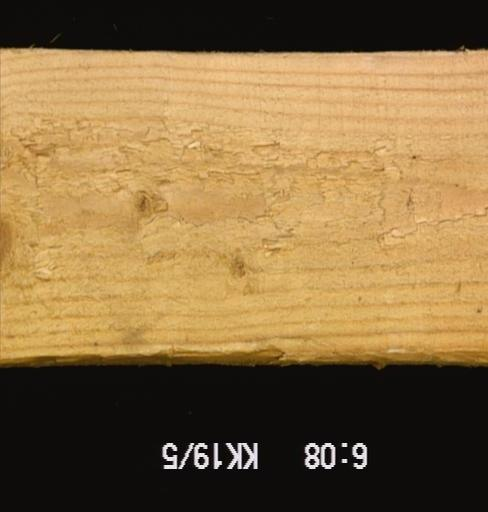small_knot: (222, 245, 264, 298), (125, 187, 171, 224)
sound_knot: (0, 207, 25, 288)
wave: (0, 340, 486, 364)
